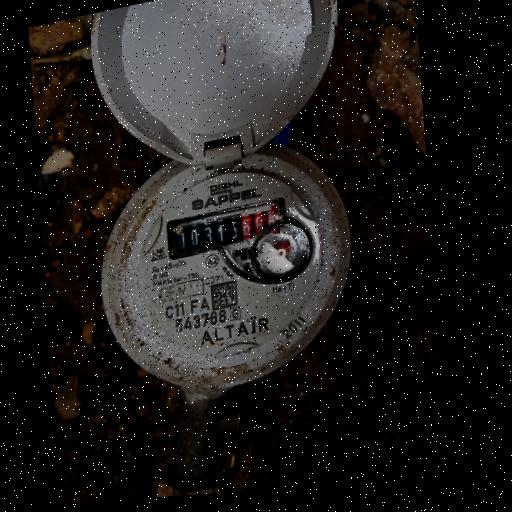0: (184, 224, 204, 249), (173, 227, 190, 252)
1: (214, 218, 229, 244)
3: (200, 221, 219, 247)
5: (223, 216, 244, 242)
6: (240, 214, 255, 240), (252, 211, 267, 236)
8: (263, 203, 281, 228)
border_water_meter_number: (166, 196, 289, 258)
